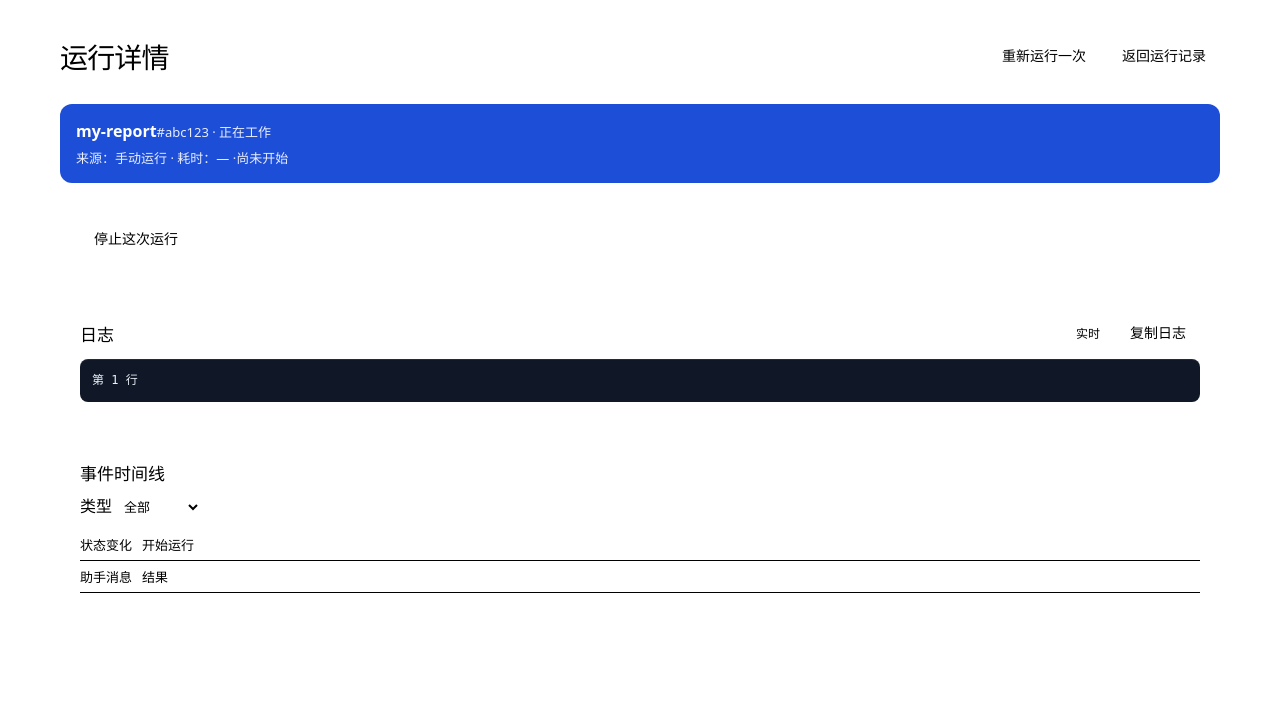
RunDetailScreen › 事件类型筛选只显示选中类型
Expected: the text "开始运行" is shown, [142,536,194,554]
Select "助手消息" in the dropdown named "事件类型筛选" at (156, 507), box [112,493,201,521]
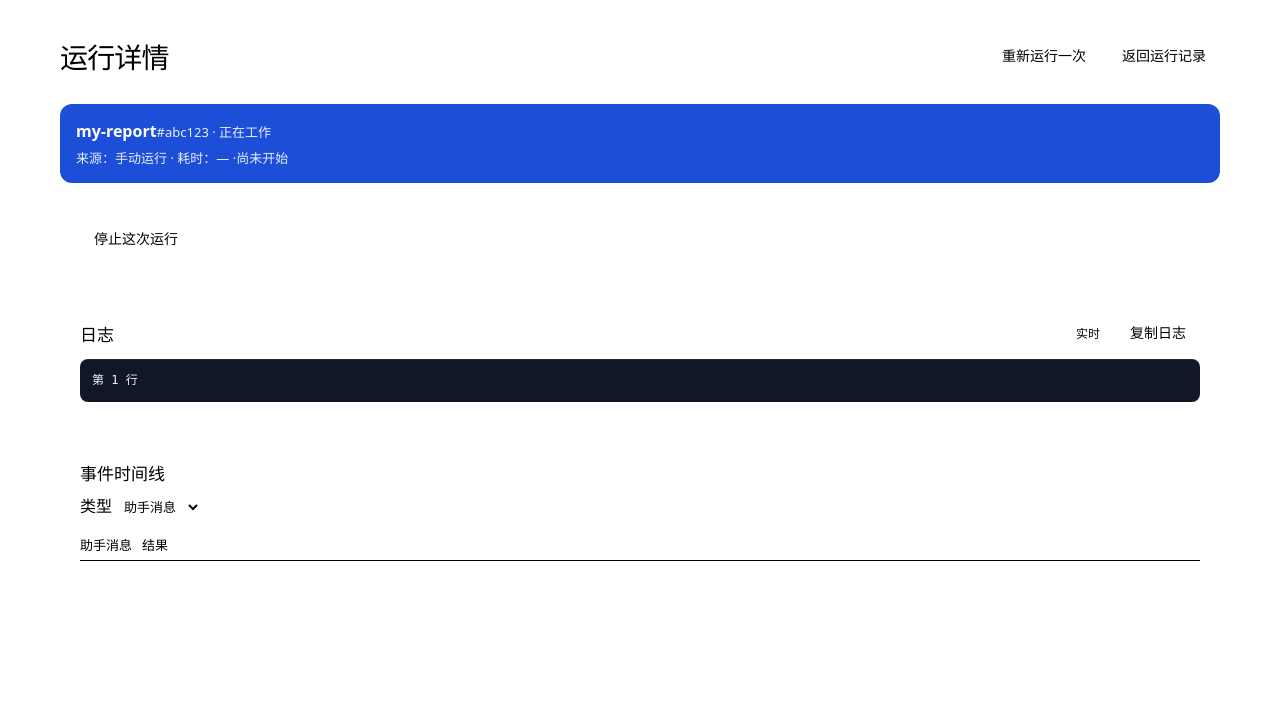
Expected: the text "结果" is shown, [142,536,168,554]
Now the text "开始运行" is gone
